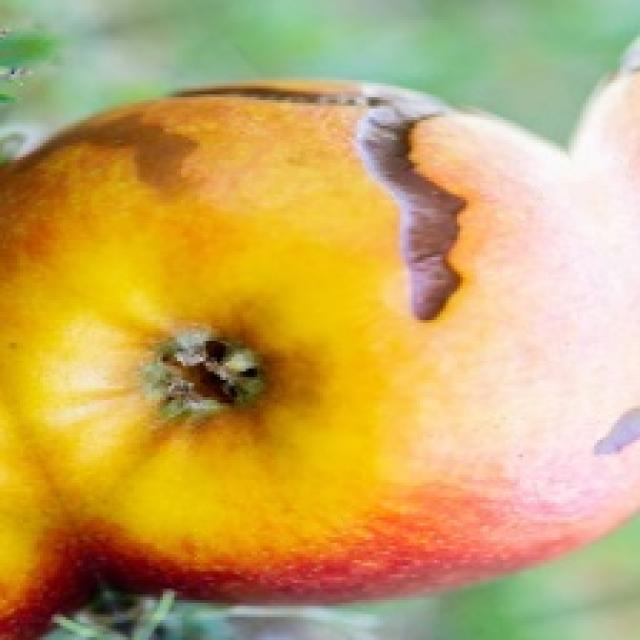rotten_apple: (0, 91, 530, 598)
